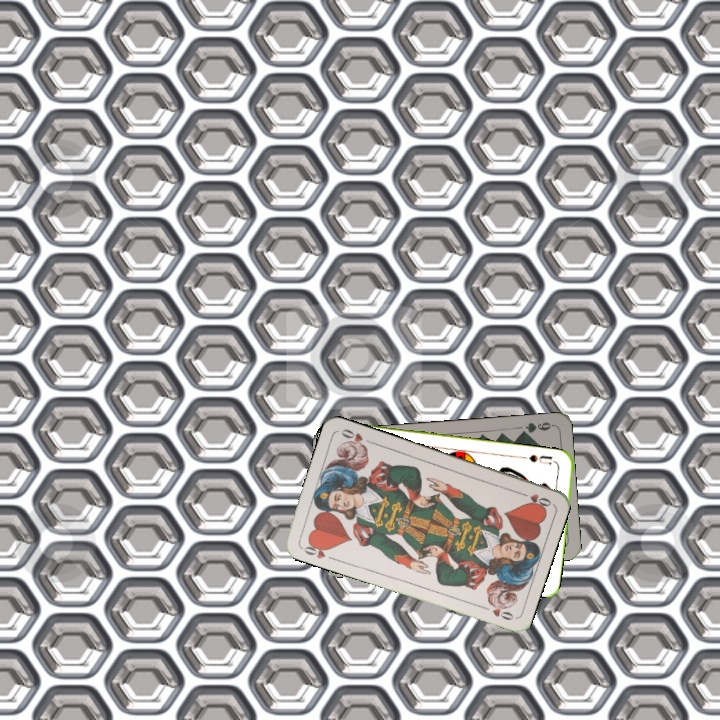G9: (516, 418, 556, 438)
HO: (515, 488, 554, 510), (297, 538, 333, 561)
SU: (525, 450, 554, 467)
